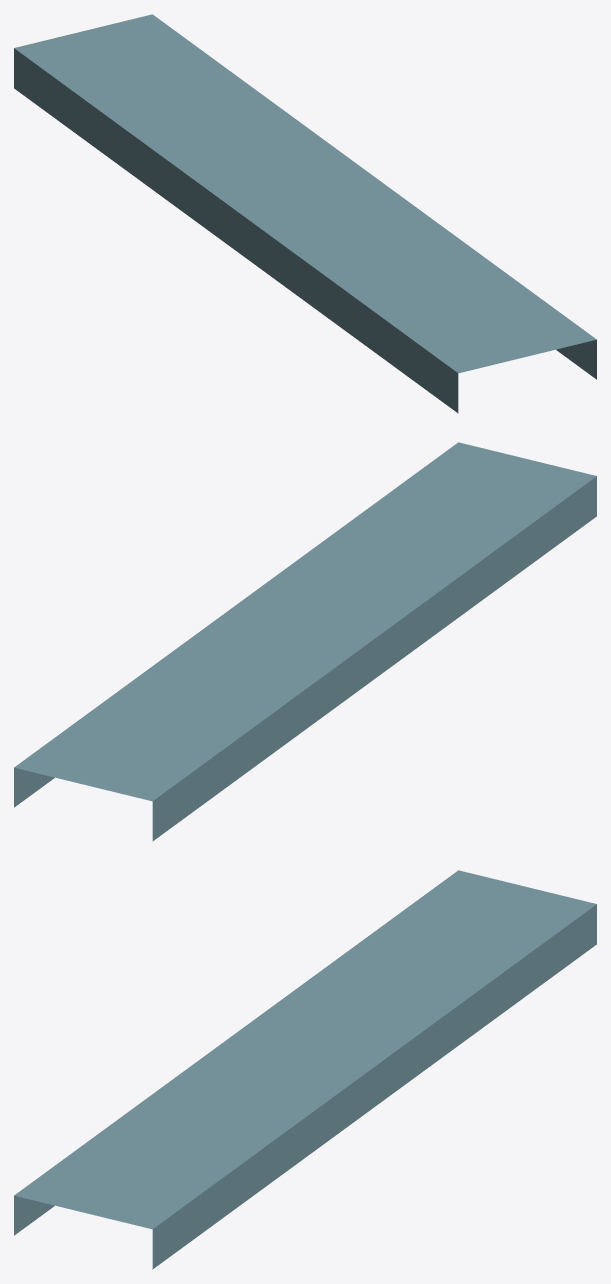
Rendered from Box_wide.fbx.
3 renders of one model, top to bottom at view 1: azimuth 30°, elevation 25°; view 2: azimuth 150°, elevation 25°; view 3: azimuth 330°, elevation 25°, orthographic.
Visible parts, largest first — view 1: BoxRidingSurface; view 2: BoxRidingSurface; view 3: BoxRidingSurface.
Part boxes in pixels (x1,y1,x2,y2): BoxRidingSurface: [14, 14, 596, 413]; BoxRidingSurface: [14, 442, 596, 841]; BoxRidingSurface: [14, 870, 596, 1269].
Size of the model in its own units: 1.8 by 0.5 by 10.
